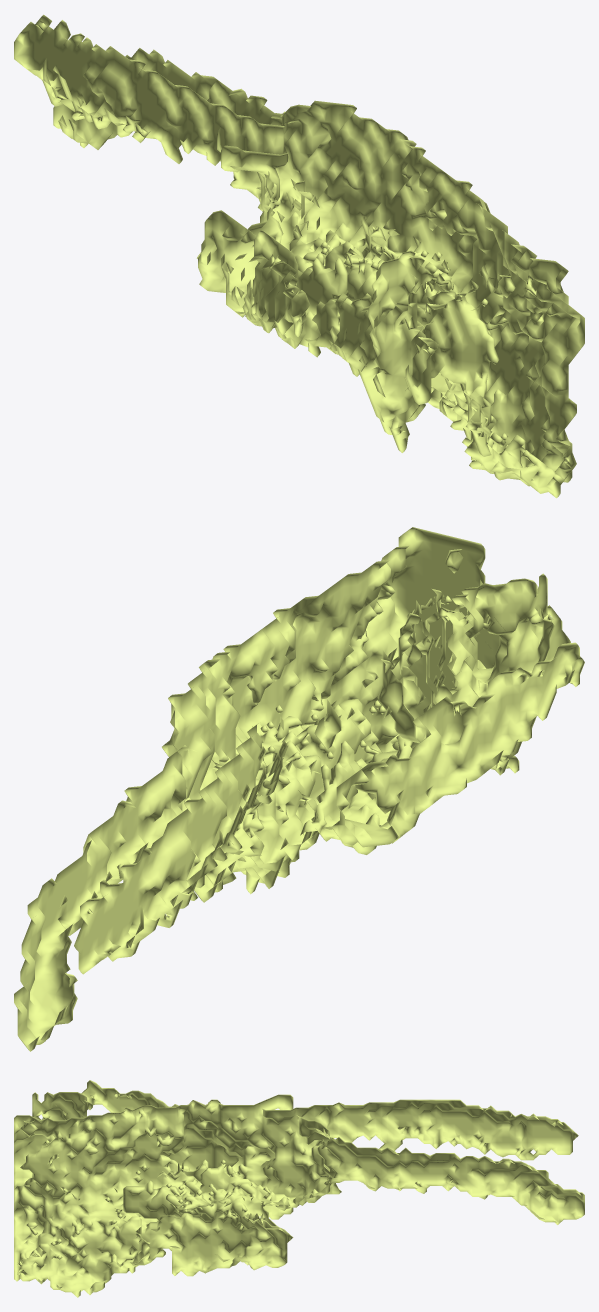
File: osteocyte_160.glb
3 views of the same model, one above another, from view 1: azimuth 30°, elevation 25°; view 2: azimuth 150°, elevation 25°; view 3: azimuth 270°, elevation 25° (orthographic). The views are drawn at different scales.
Visible parts, largest first — view 1: osteocyte_160; view 2: osteocyte_160; view 3: osteocyte_160.
Boxes of the visible parts, <box> form: osteocyte_160: <box>14,14,584,498</box>; osteocyte_160: <box>14,527,584,1051</box>; osteocyte_160: <box>14,1080,584,1297</box>.
Bounding box in the file's own units: 14.44 × 13.96 × 45.26.
